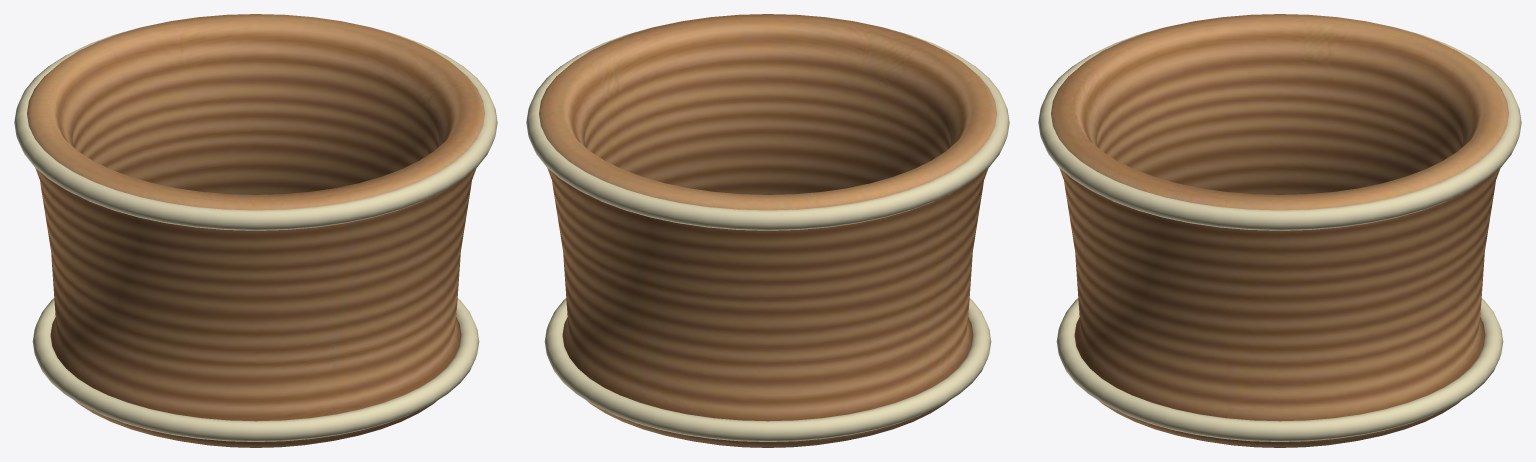
Rendered from drum.glb.
The picture shows the model from 3 angles, left to right: view 1: azimuth 30°, elevation 25°; view 2: azimuth 150°, elevation 25°; view 3: azimuth 270°, elevation 25°; orthographic projection.
Visible parts, largest first — view 1: drum_body, rim0.104, rim0.012; view 2: drum_body, rim0.104, rim0.012; view 3: drum_body, rim0.104, rim0.012.
Boxes of the visible parts, x1,y1,x2,y2 form: drum_body: (27,14,484,447); rim0.104: (14,27,497,230); rim0.012: (32,298,479,441); drum_body: (539,14,996,447); rim0.104: (526,27,1009,230); rim0.012: (544,298,991,441); drum_body: (1051,14,1508,447); rim0.104: (1038,27,1521,230); rim0.012: (1056,298,1503,441).
Bounding box in the file's own units: 0.184 × 0.11 × 0.184.
Materials: 3 (1 with a texture image).
